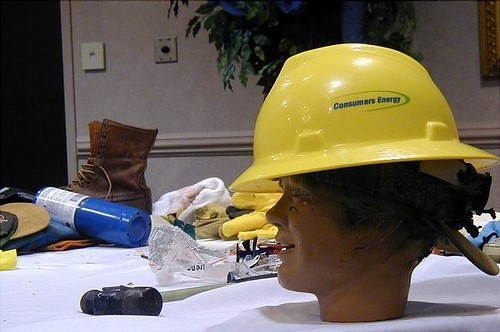hardhat: (249, 45, 500, 196)
